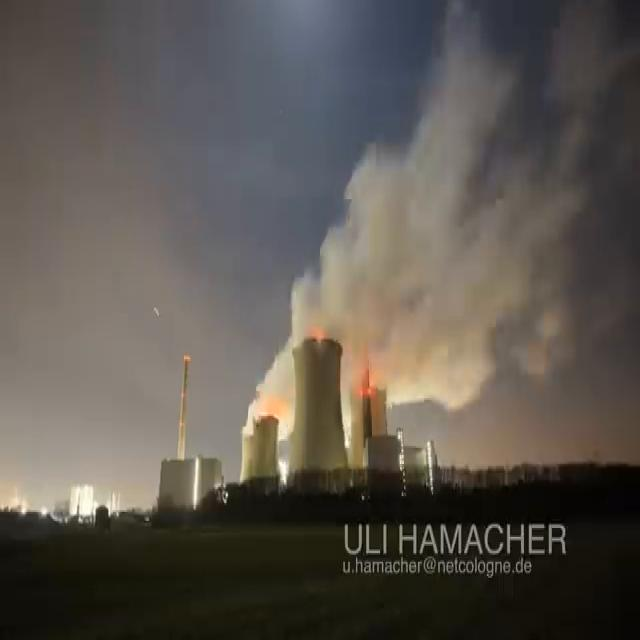smoke: (281, 0, 640, 468)
